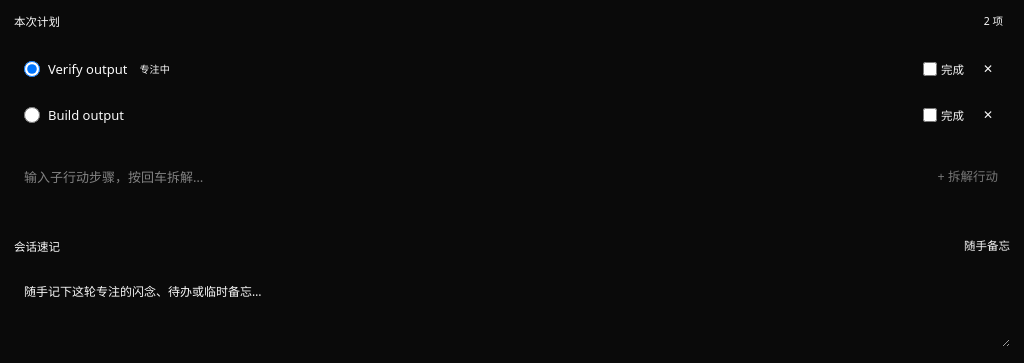
Scenario: SessionWorkspace 运行中拆解行动（工单②，文案 2026-10-01 升级） › 在途期间提交按钮禁用（可见反馈，不只是静默拦住）
The image size is (1024, 363).
In the field named "新三级标题": (466, 177) [14, 159, 918, 195], type "在途"
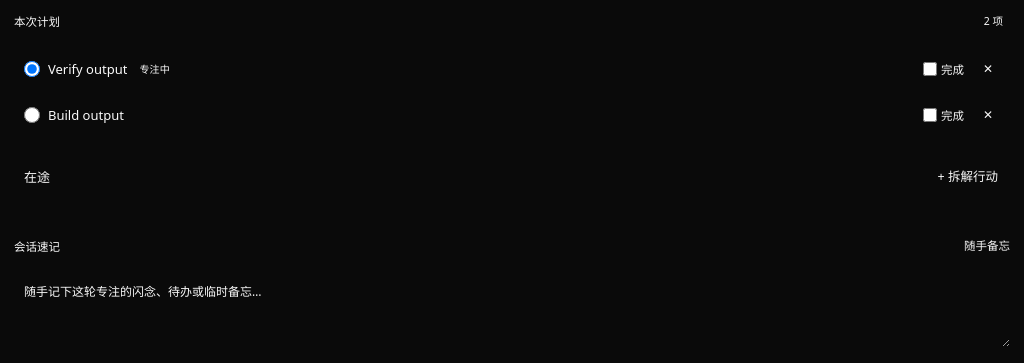
Submit the form named "新三级标题", box [14, 151, 1010, 195]
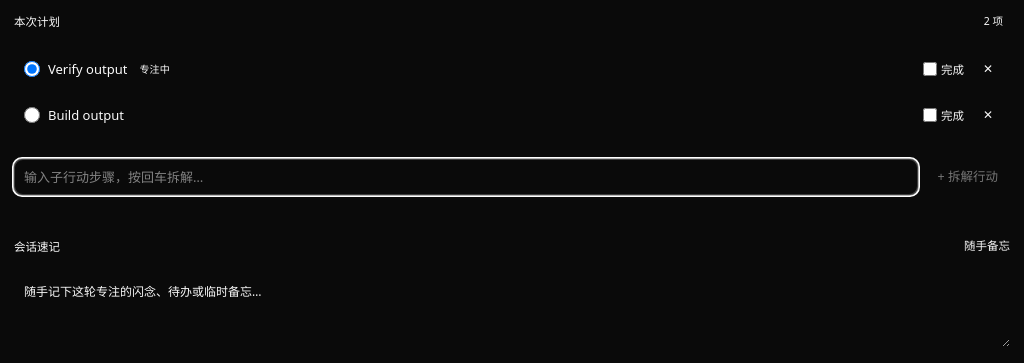
Expected: the button "+ 拆解行动" is disabled, [926, 159, 1010, 195]
Expected: the field named "新三级标题" is empty, [14, 159, 918, 195]
